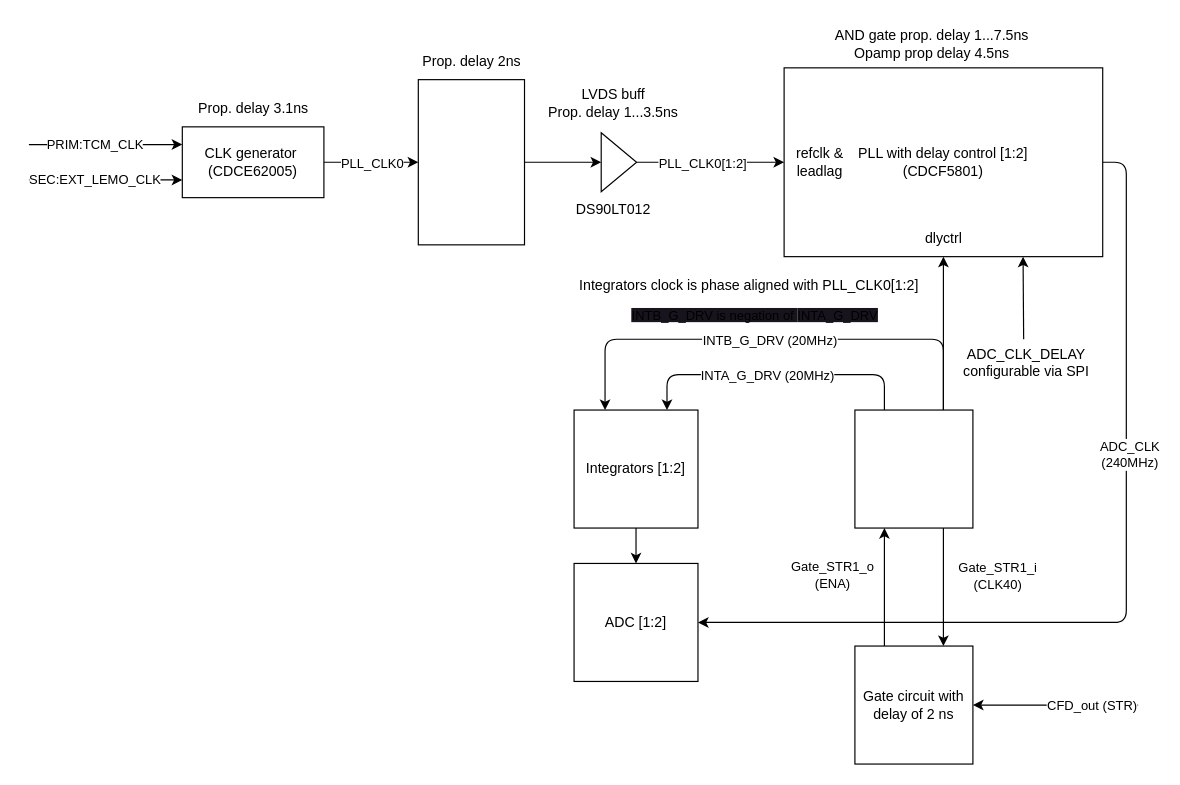
This 1180x785 diagram has some shape labels left out. The box of each missing label's shape, as (x1, y1, x2, y2) in pixels:
CLK fanout (ADCLK854): (417, 78, 525, 245)
FGPA: (854, 409, 973, 528)
